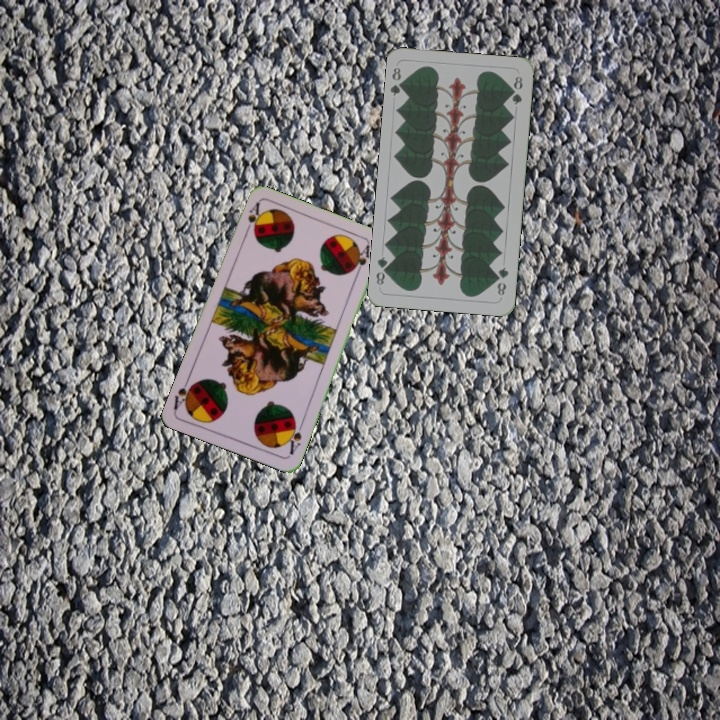G8: (387, 64, 408, 98), (493, 263, 511, 298)
SA: (283, 417, 306, 457), (241, 199, 264, 238)
